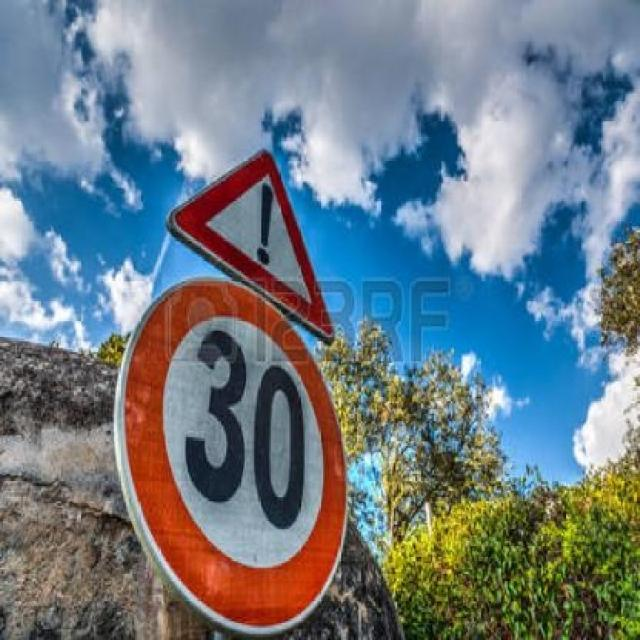forb_speed_over_30: (116, 282, 350, 629)
